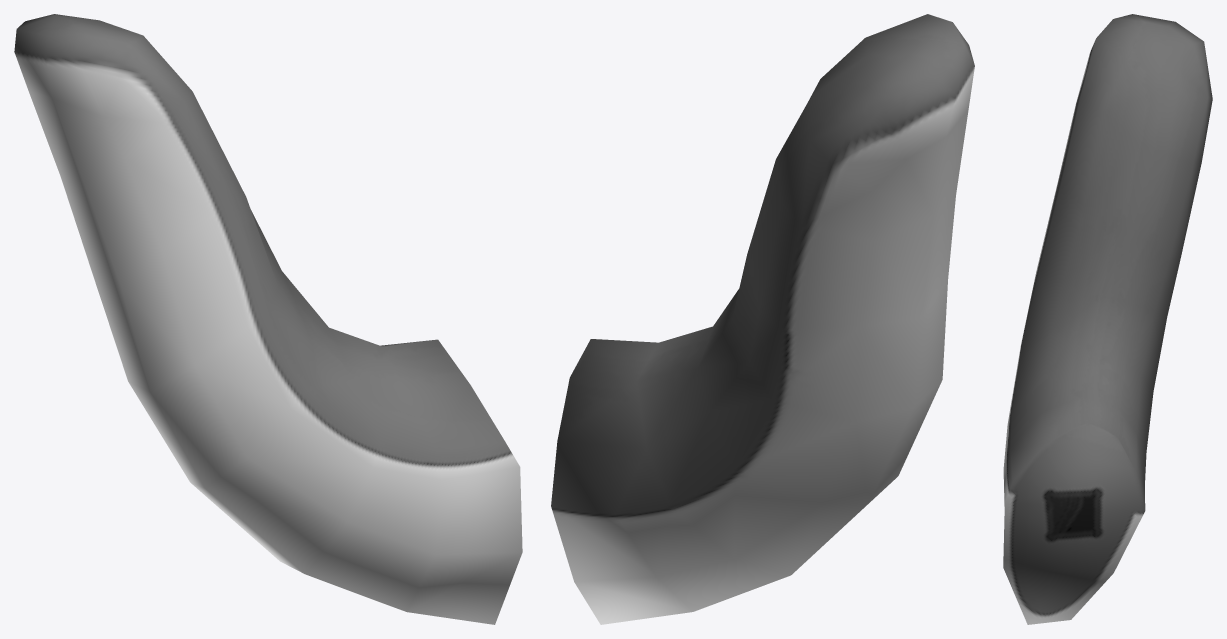
The model's file is hand_thumb.dae.
3 views of the same model, side by side, from view 1: azimuth 30°, elevation 25°; view 2: azimuth 150°, elevation 25°; view 3: azimuth 270°, elevation 25° (orthographic). The views are drawn at different scales.
Visible parts, largest first — view 1: default; view 2: default; view 3: default.
Boxes of the visible parts, <box> form: default: <box>14,14,522,624</box>; default: <box>551,14,974,624</box>; default: <box>1003,14,1212,624</box>.
Bounding box in the file's own units: 0.0557 × 0.0335 × 0.0842.
1 material, 1 textured.
